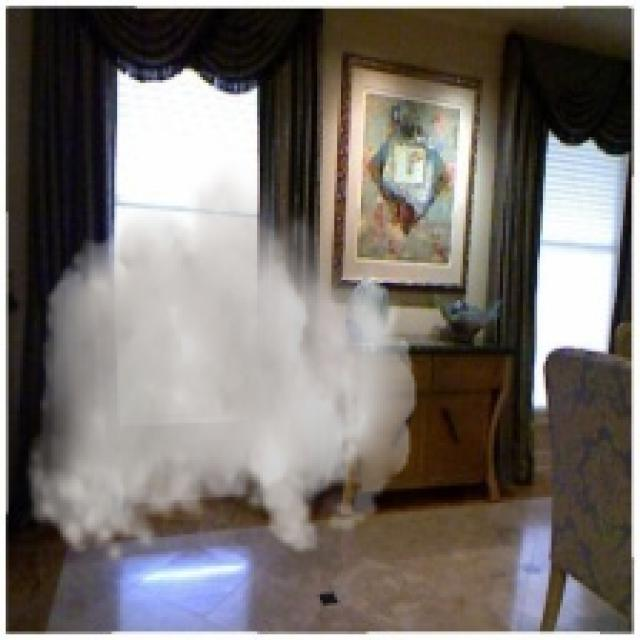smoke: (26, 157, 417, 569)
